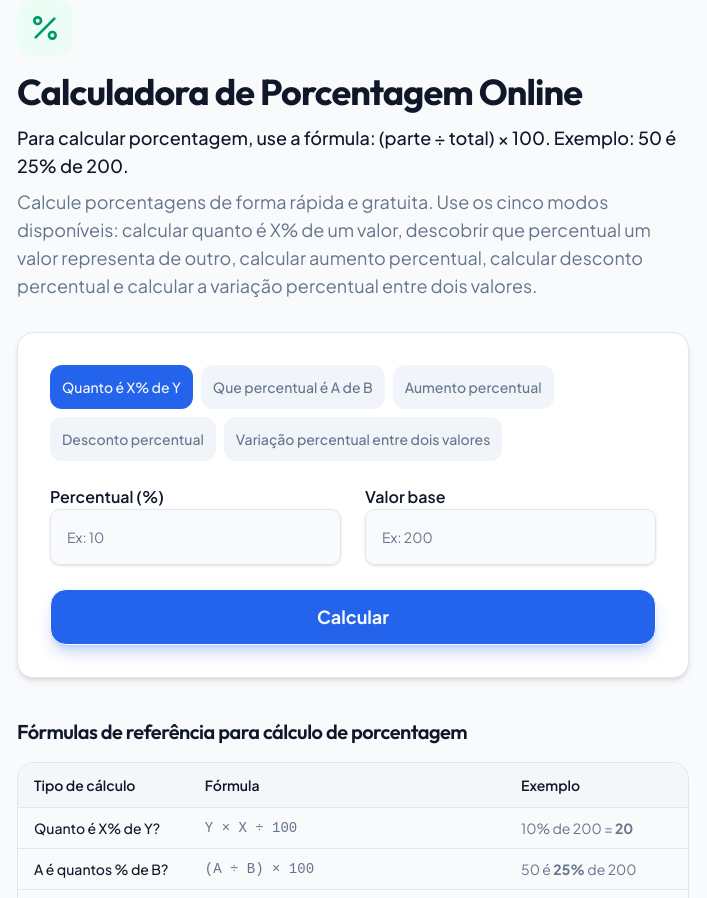
7.2 — Integração: componente Porcentagem › editar campo após resultado exibido oculta o ResultBox
Type "10" into the field labelled "Percentual (%)" at (196, 537), box [50,509,341,565]
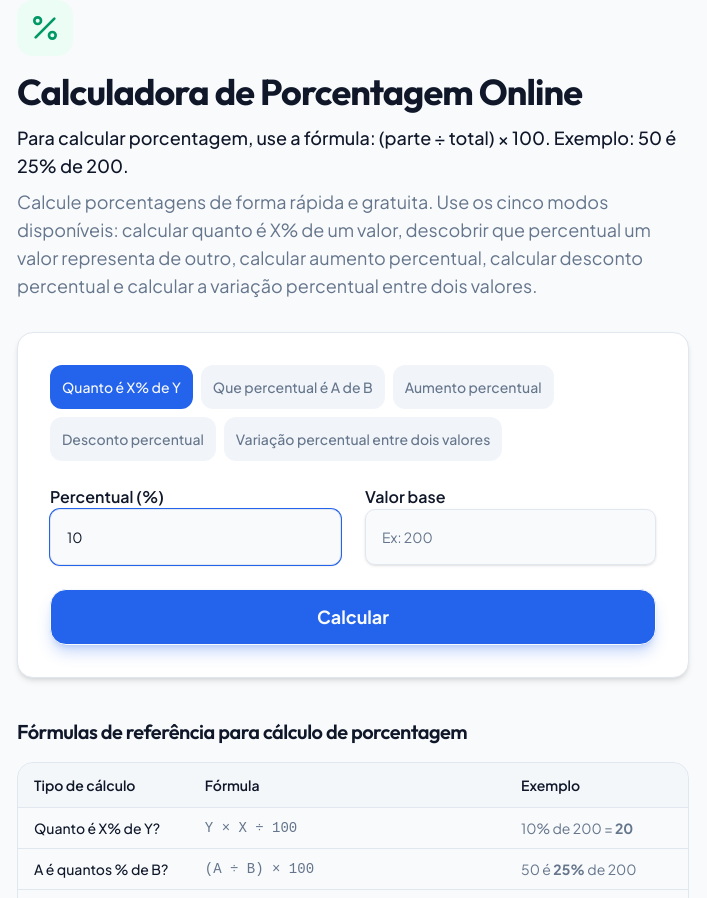
Type "200" into the field labelled "Valor base" at (510, 537), box [365,509,656,565]
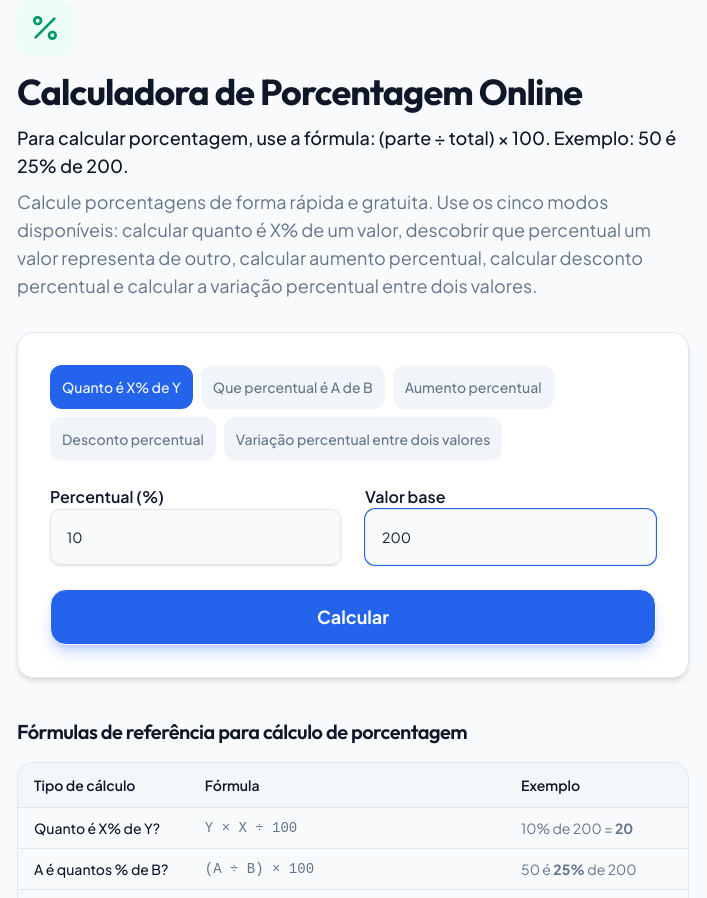
Click the button "Calcular" at (353, 617), box [50,589,656,645]
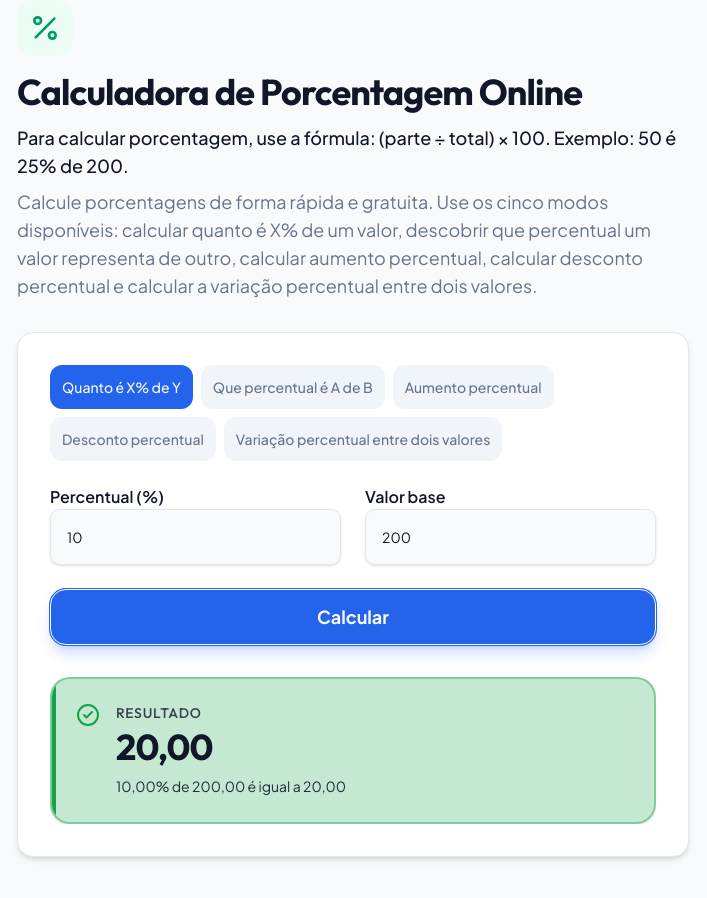
Result: the text "20,00" is shown at [116,724,213,769]
Type "5" into the field labelled "Percentual (%)" at (196, 537), box [50,509,341,565]
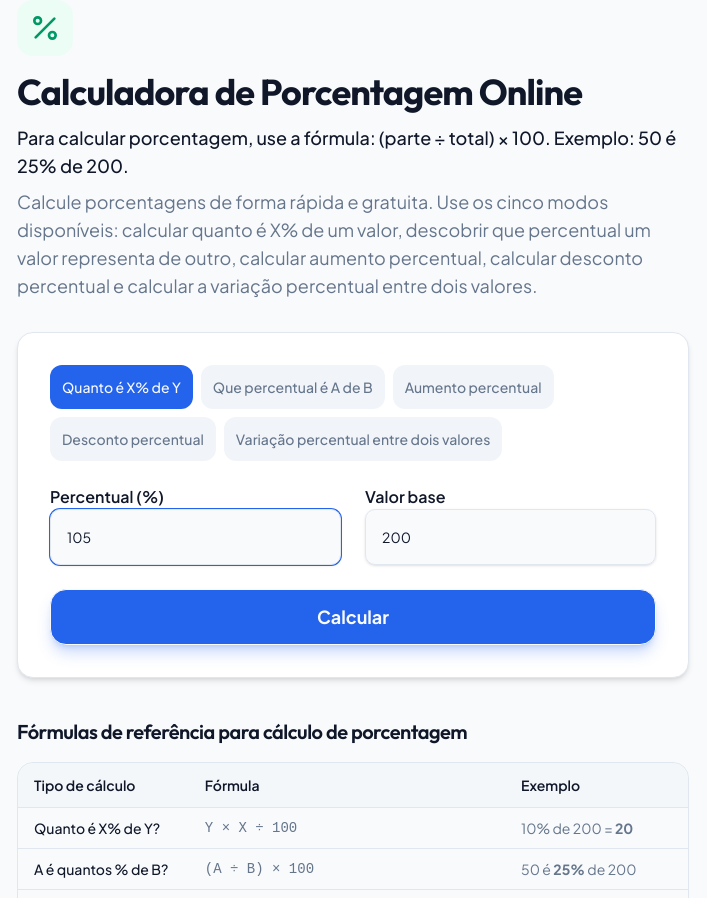
Result: the text "10,00% de 200,00 é igual a 20,00" is gone
